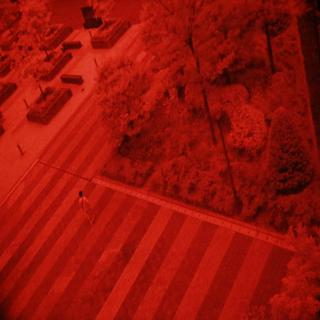person: (72, 185, 97, 232)
